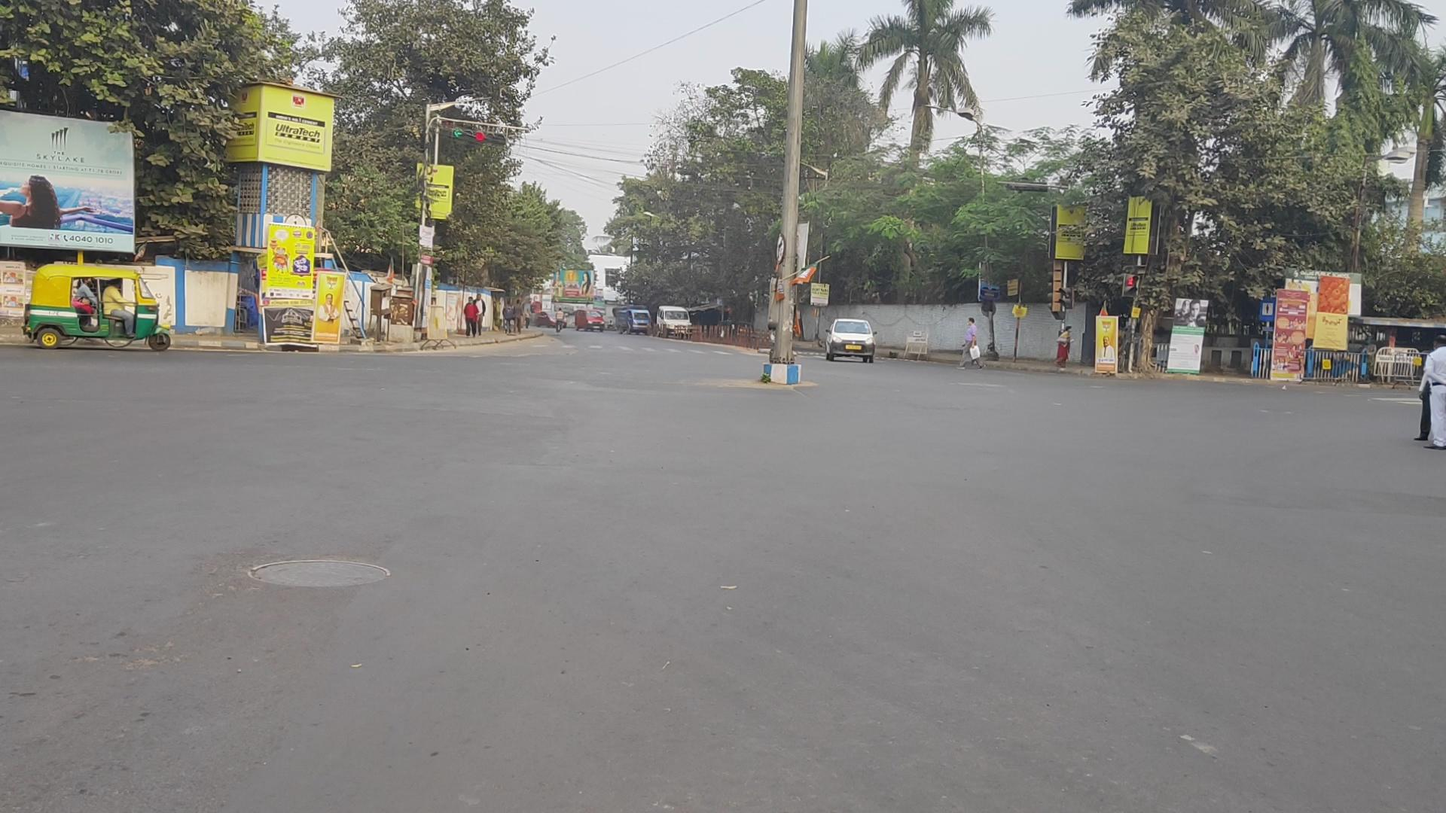Auto: (23, 263, 172, 352)
car: (825, 318, 878, 364), (657, 306, 692, 339), (575, 309, 606, 332)
van: (614, 306, 653, 336)
